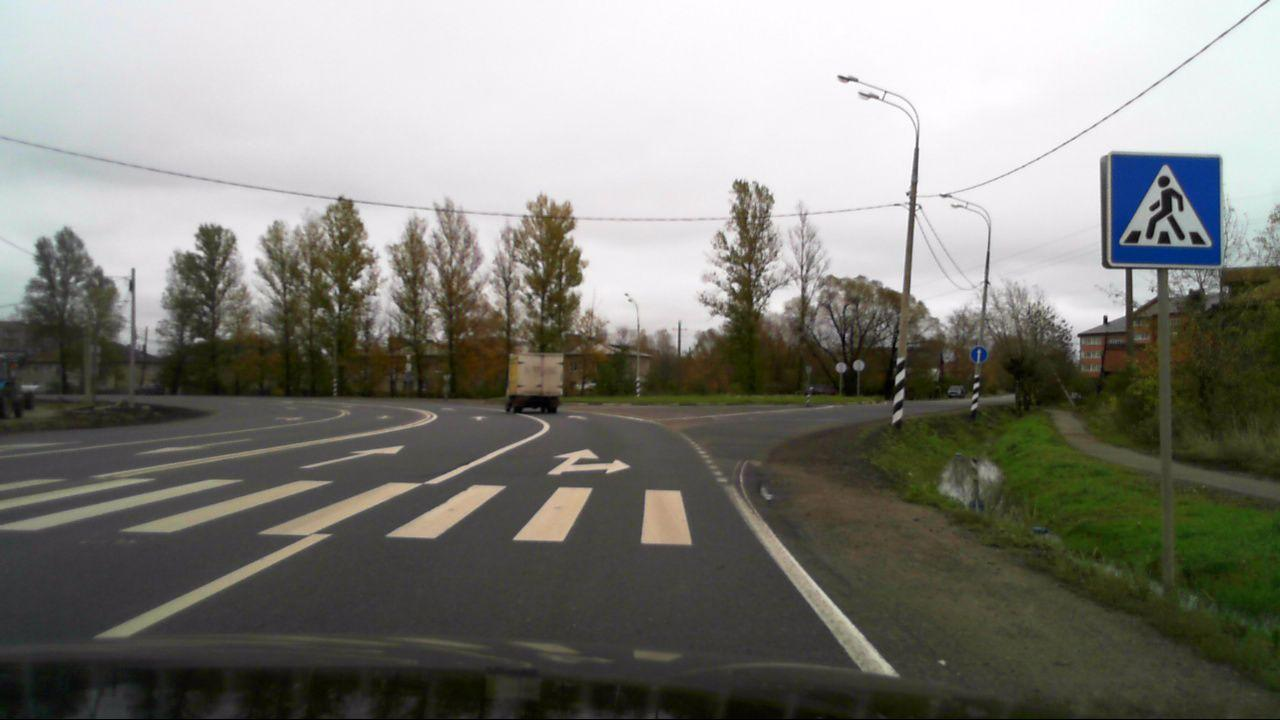road_sign: (1104, 154, 1226, 268), (970, 345, 988, 364)
